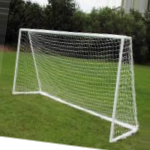goals: (11, 27, 142, 143)
